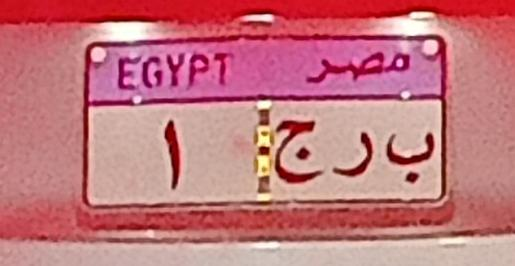1: (146, 119, 197, 198)
ب: (381, 112, 440, 176)
ج: (266, 100, 328, 192)
ر: (322, 100, 387, 194)
